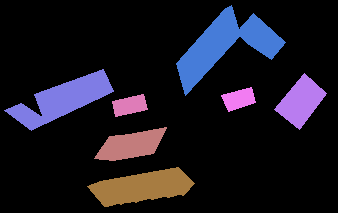parkingspot: (176, 5, 240, 95), (34, 69, 113, 123), (87, 167, 194, 206), (274, 73, 326, 129), (94, 127, 166, 160), (236, 13, 285, 59), (4, 103, 48, 130), (221, 87, 255, 111), (112, 94, 147, 116)
